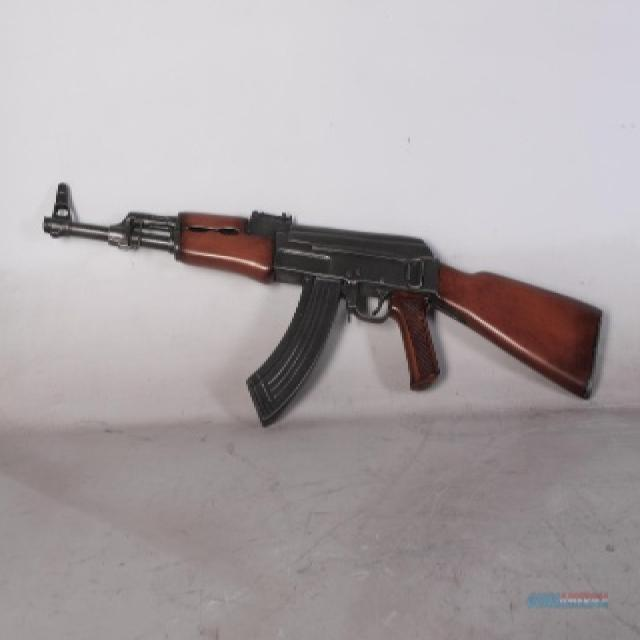rifle: (23, 167, 609, 429)
